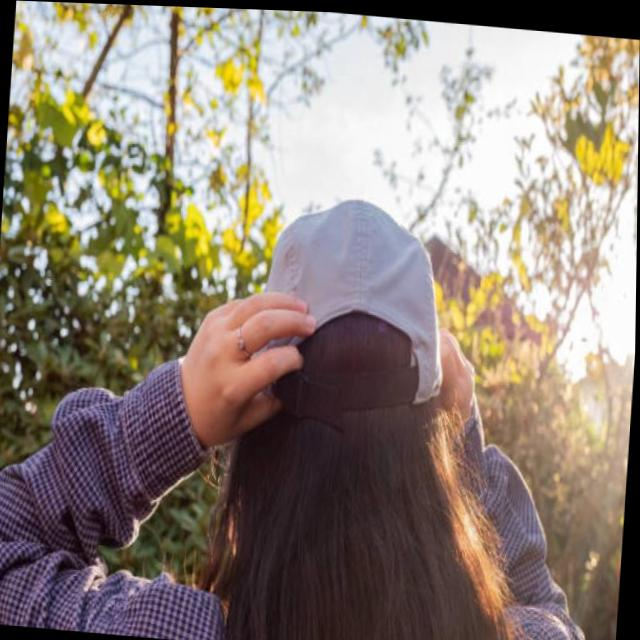no helmet: (207, 176, 487, 572)
